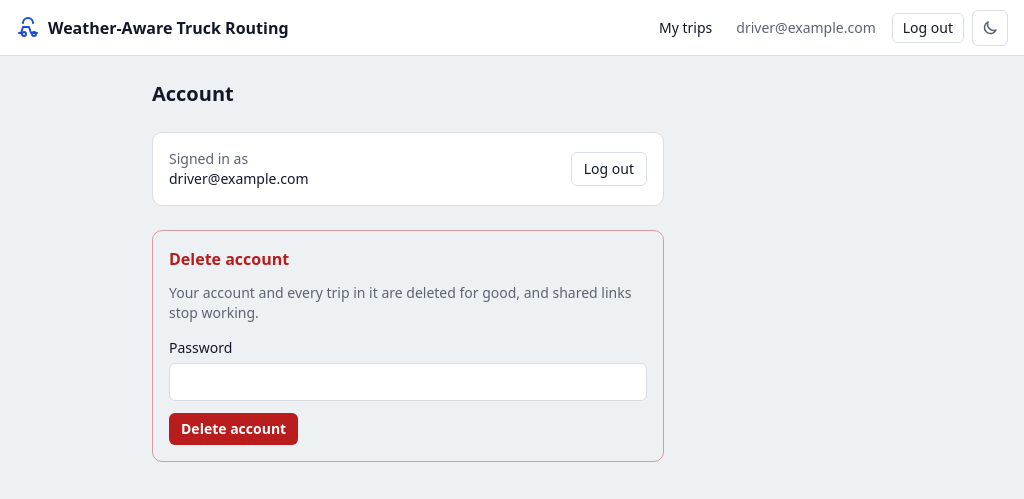
it: account page › asks for the password before anything else
Expected: the heading "Account" is shown, [152, 80, 234, 107]
Click the button "Delete account".
click(234, 429)  # box [169, 413, 298, 445]
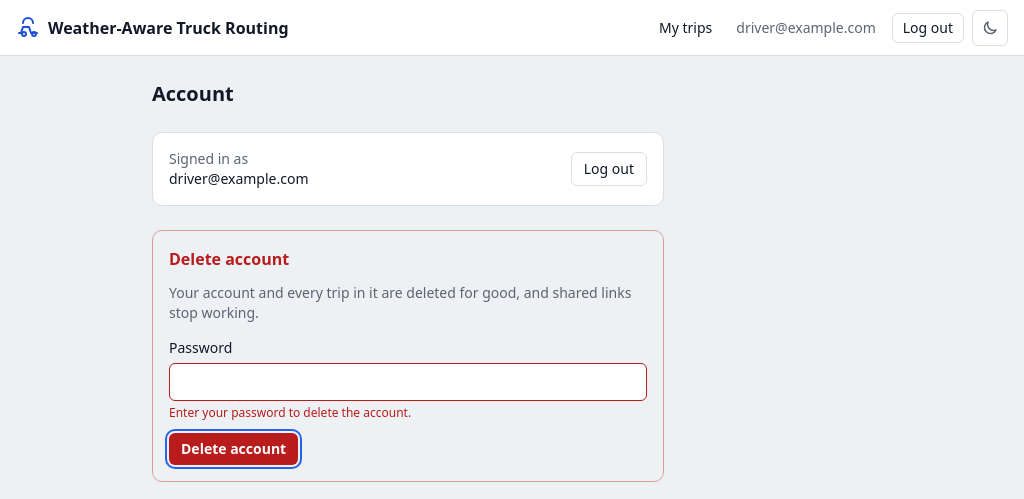
Result: the message shows "Enter your password" at [169, 404, 411, 421]
